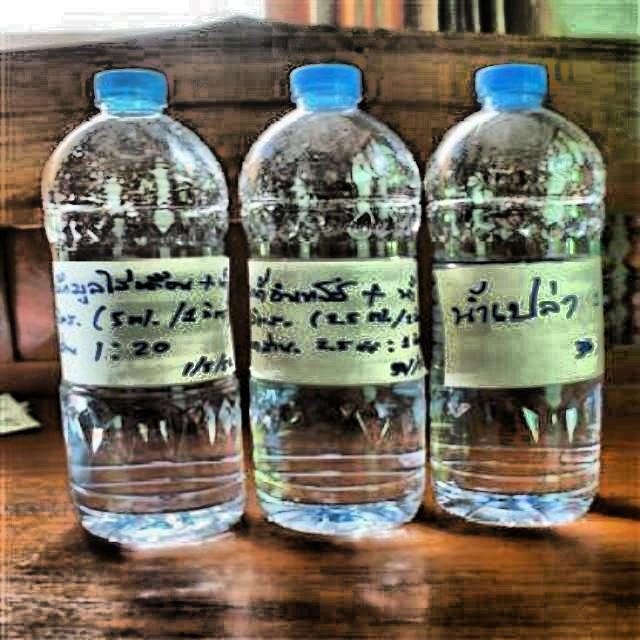Bottles: (17, 53, 255, 549), (399, 58, 626, 536), (233, 55, 446, 553)
